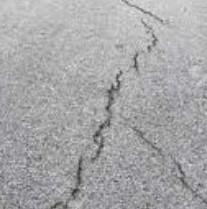crack: (126, 120, 207, 209), (46, 154, 89, 206), (116, 0, 170, 27), (102, 70, 125, 123), (91, 118, 106, 161), (141, 28, 164, 55), (129, 49, 144, 75)
